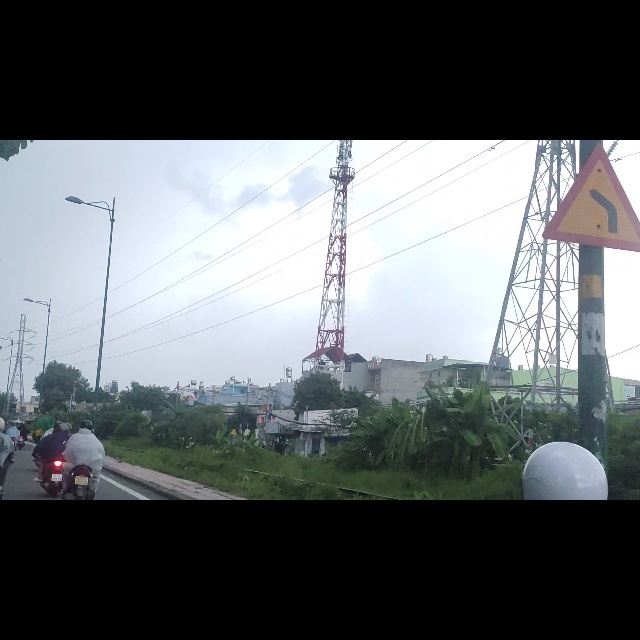bien_nguy_hiem: (543, 6, 640, 202)
